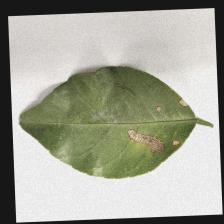canker: (122, 114, 184, 162)
